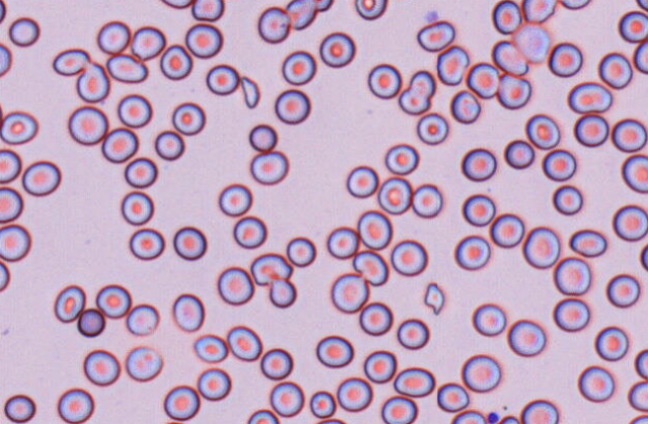PLT: (486, 409, 504, 424)
RBC: (67, 105, 108, 145), (522, 226, 560, 269), (511, 22, 550, 63), (460, 353, 501, 392), (330, 272, 369, 313), (507, 318, 546, 357), (567, 81, 612, 114), (553, 256, 591, 295), (216, 266, 254, 305), (356, 209, 392, 250), (75, 61, 110, 103), (82, 348, 120, 386), (21, 160, 61, 196), (250, 252, 292, 286), (162, 384, 200, 421), (577, 365, 615, 402), (124, 345, 163, 381), (249, 150, 289, 185), (491, 39, 528, 76), (101, 126, 138, 163), (390, 239, 427, 276), (453, 234, 491, 270), (185, 22, 223, 58), (57, 387, 94, 423), (319, 31, 355, 68), (0, 110, 38, 145), (552, 297, 590, 332), (598, 51, 633, 89), (436, 45, 469, 85), (393, 366, 435, 397), (352, 250, 388, 286), (336, 376, 372, 412), (226, 325, 262, 361), (274, 88, 310, 124), (269, 380, 304, 417), (612, 204, 647, 241), (315, 334, 353, 368), (377, 176, 411, 214), (105, 53, 148, 83), (416, 19, 455, 52), (496, 73, 531, 109), (489, 212, 524, 248), (525, 113, 560, 149), (611, 117, 647, 152), (547, 41, 582, 77), (95, 283, 131, 318), (465, 61, 499, 98), (460, 147, 497, 181), (53, 284, 85, 323), (172, 293, 204, 332), (605, 273, 640, 308), (117, 93, 152, 128), (130, 25, 165, 60), (281, 50, 316, 85), (594, 325, 628, 361), (367, 63, 401, 99), (573, 113, 609, 147), (257, 6, 290, 43), (196, 367, 231, 401), (358, 301, 392, 336), (96, 20, 131, 54), (471, 302, 506, 336), (232, 215, 267, 249), (172, 225, 206, 260), (159, 44, 192, 80), (128, 227, 164, 260), (0, 223, 31, 261), (171, 101, 205, 135), (120, 190, 153, 225), (541, 148, 576, 181), (568, 228, 607, 257), (363, 349, 396, 383), (259, 347, 293, 380), (461, 193, 495, 226), (218, 183, 252, 216), (345, 164, 378, 198), (125, 303, 159, 336), (384, 143, 419, 175), (52, 47, 90, 76), (326, 226, 359, 259), (205, 63, 239, 95), (411, 183, 442, 218), (396, 317, 429, 349), (124, 156, 157, 188), (416, 112, 448, 145), (193, 333, 228, 363), (621, 153, 647, 193), (380, 395, 417, 423), (491, 0, 521, 34), (450, 89, 480, 123), (8, 16, 40, 47), (436, 382, 469, 412), (3, 393, 36, 423), (285, 236, 316, 267), (552, 184, 583, 215), (285, 0, 317, 30), (618, 10, 647, 43), (154, 129, 184, 160), (503, 139, 534, 169), (520, 399, 558, 423), (267, 278, 296, 308), (76, 307, 105, 337), (0, 186, 23, 223), (248, 123, 277, 152), (521, 0, 556, 23), (408, 69, 435, 98), (309, 390, 336, 418), (0, 148, 21, 183), (191, 0, 224, 21), (354, 0, 387, 20), (627, 380, 647, 411), (450, 409, 486, 423), (246, 408, 279, 423), (633, 40, 647, 74), (0, 42, 12, 77), (634, 348, 647, 379), (0, 259, 10, 292), (159, 0, 192, 9), (559, 0, 592, 9), (311, 0, 333, 11), (639, 242, 647, 271), (496, 414, 520, 423), (315, 417, 347, 423), (628, 414, 647, 423), (635, 0, 648, 11), (0, 0, 6, 23), (161, 420, 185, 424), (0, 100, 3, 131), (388, 0, 419, 2)
Schistocyte: (238, 75, 262, 109), (424, 280, 445, 314)
